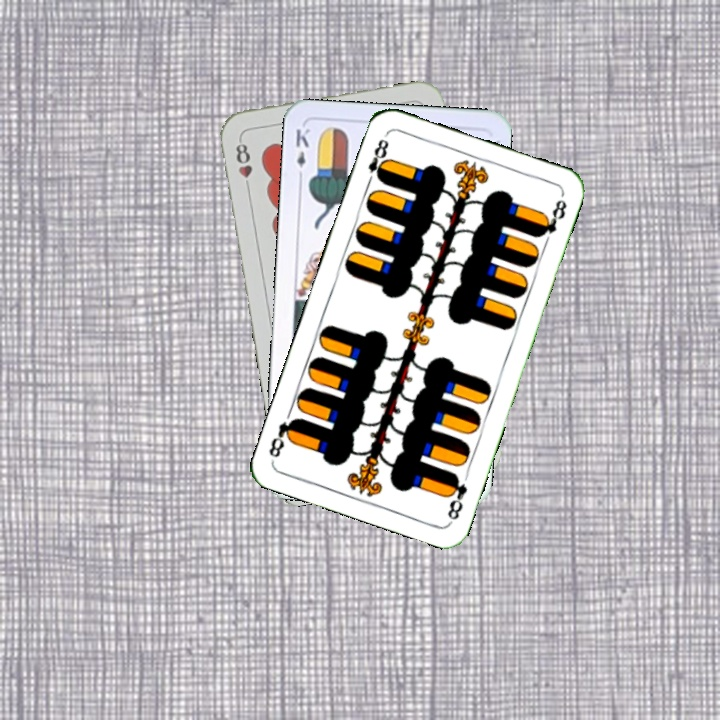E8: (362, 135, 391, 189), (443, 469, 470, 524)
EK: (291, 124, 313, 183)
H8: (232, 135, 255, 194)
